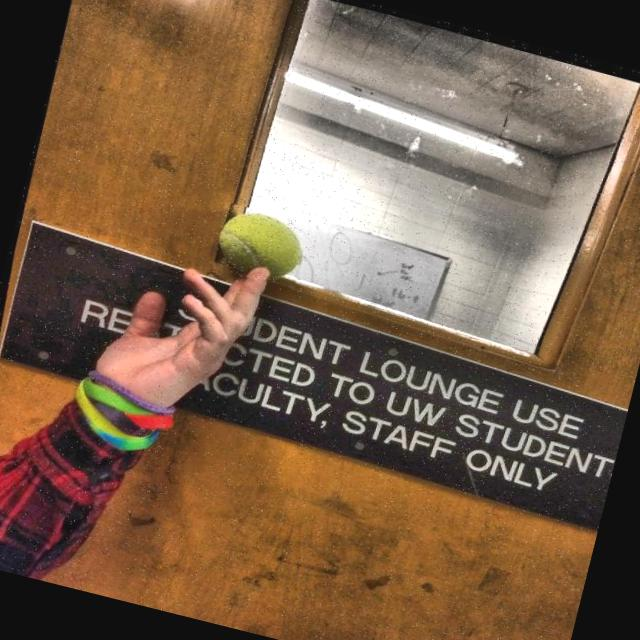tennis-ball: (207, 199, 312, 291)
